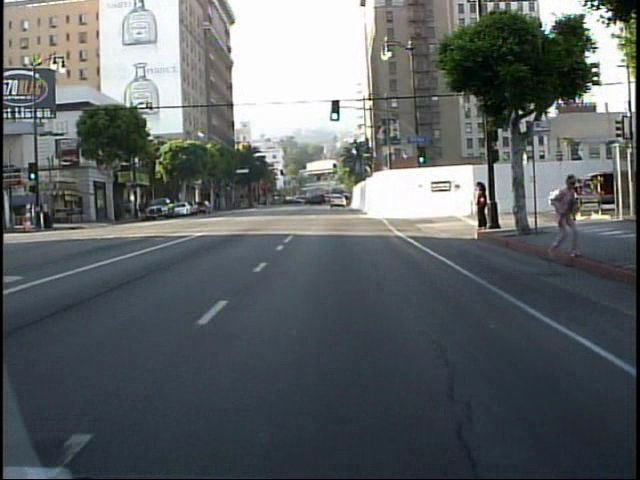person: (544, 171, 580, 265), (473, 180, 490, 234)
